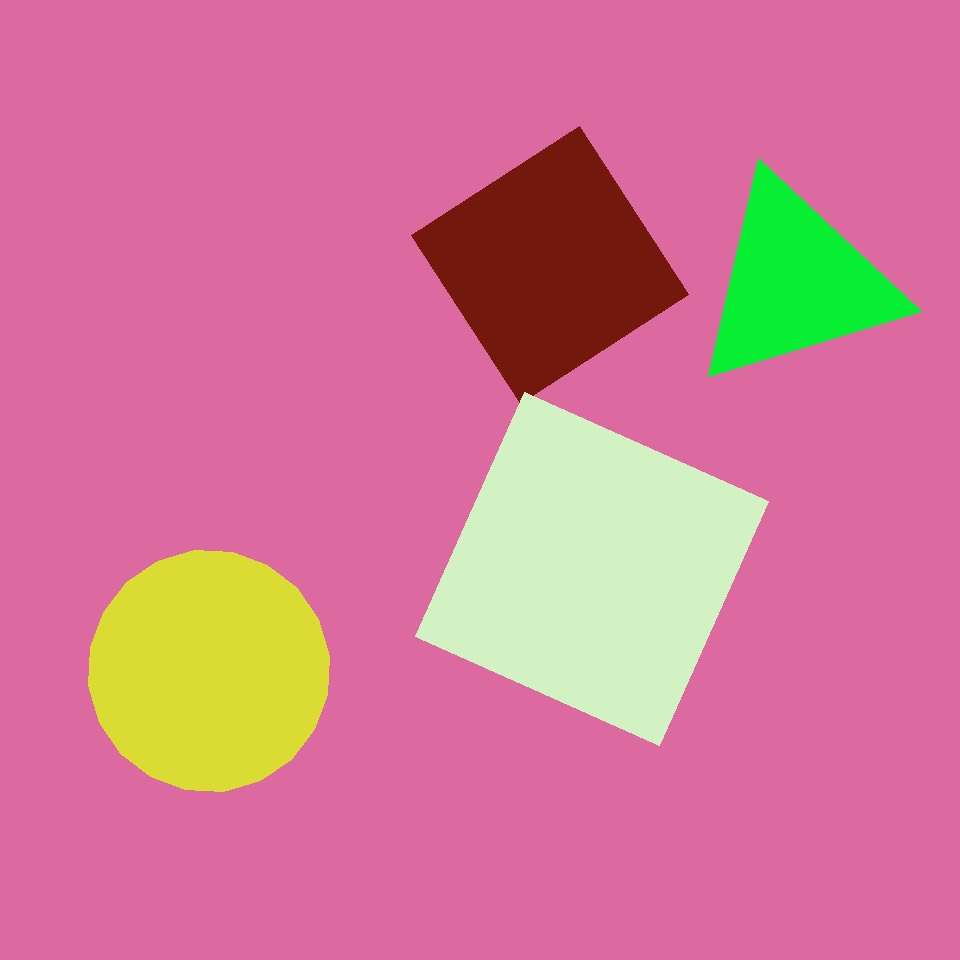circle: (690, 173, 903, 391)
square: (416, 392, 768, 745), (411, 127, 688, 404), (471, 155, 585, 268)
triangle: (535, 631, 782, 878), (88, 550, 330, 792)
